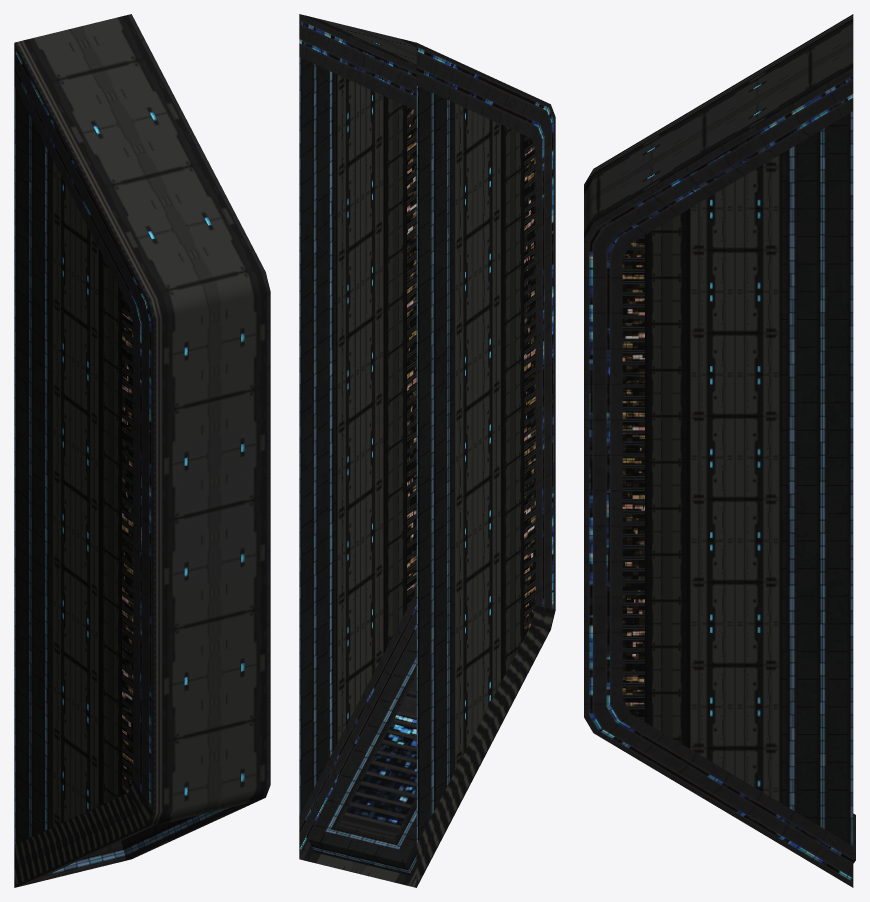
The model's file is Ultra_Addon7.fbx.
3 renders of one model, left to right at view 1: azimuth 30°, elevation 25°; view 2: azimuth 150°, elevation 25°; view 3: azimuth 270°, elevation 25°, orthographic. The views are drawn at different scales.
Parts seen in each view (by area): view 1: pPlane34; view 2: pPlane34; view 3: pPlane34.
Part boxes in pixels (x1,y1,x2,y2): pPlane34: (14, 14, 270, 887); pPlane34: (299, 14, 555, 887); pPlane34: (584, 14, 855, 887).
Size of the model in its own units: 3.41 by 23.48 by 7.06.
1 material, 1 textured.
